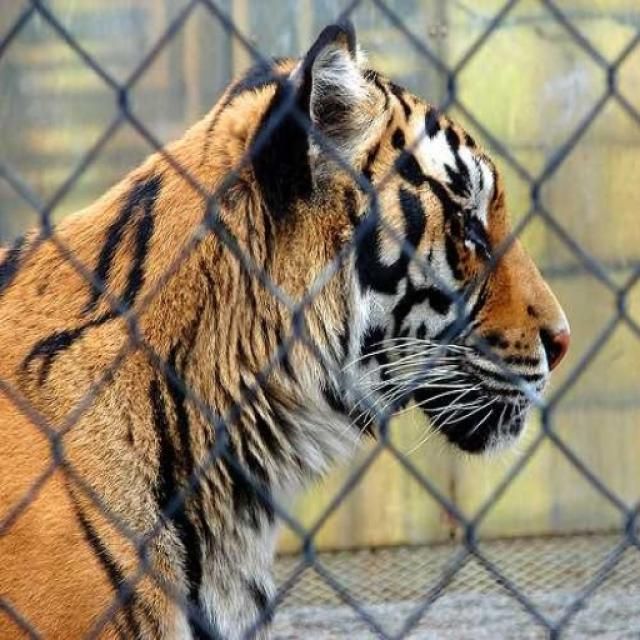tiger: (0, 18, 571, 639)
